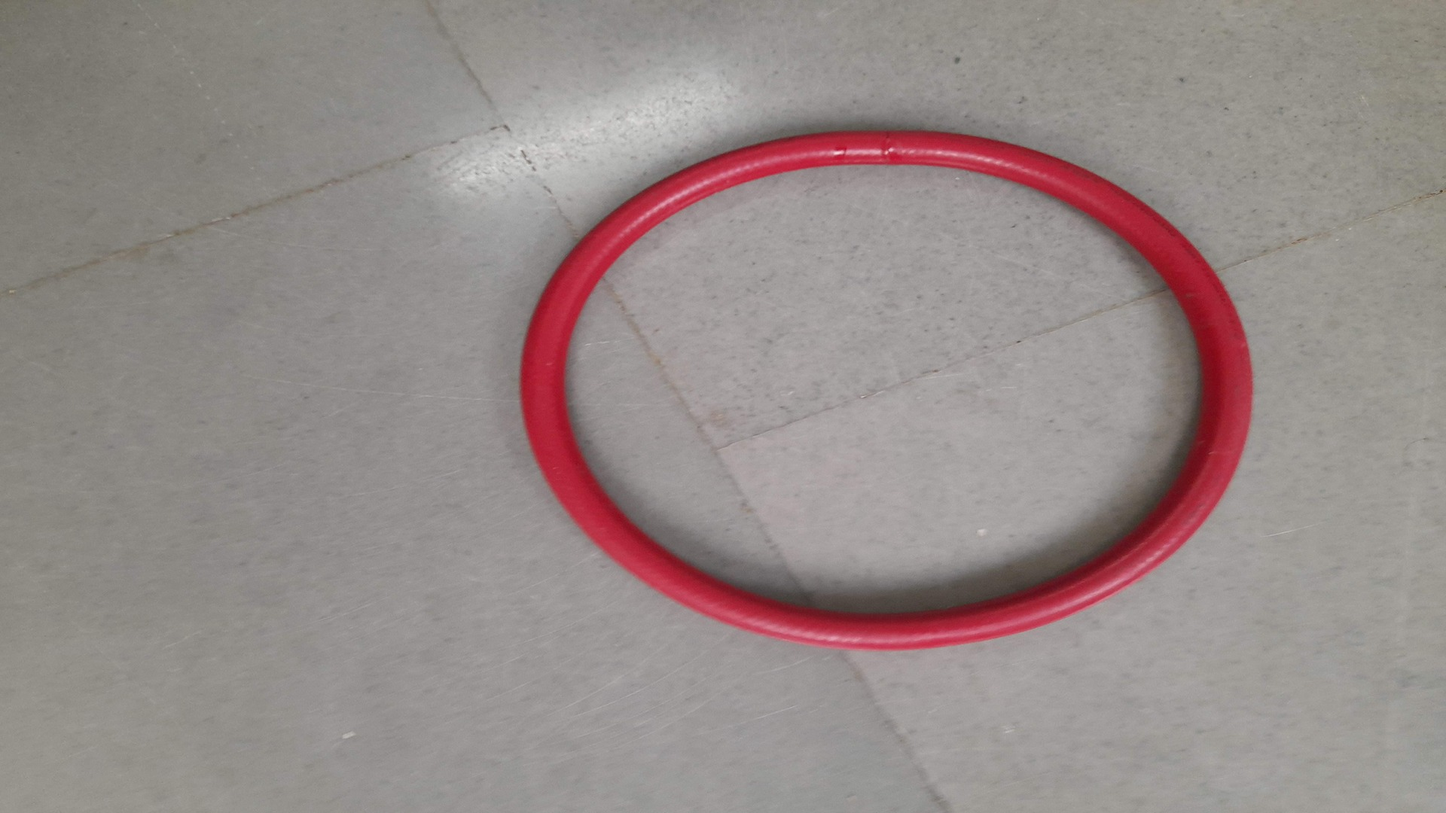Red ring: (520, 133, 1256, 647)
